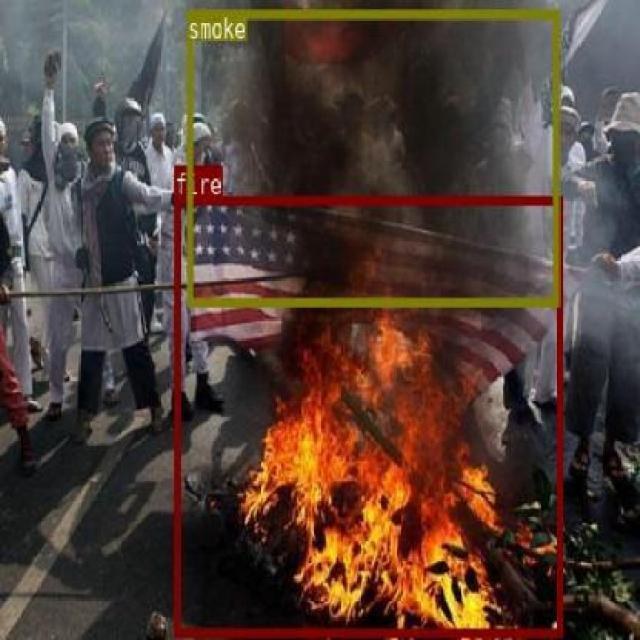Fire: (173, 194, 562, 636)
Smoke: (185, 8, 558, 306)
